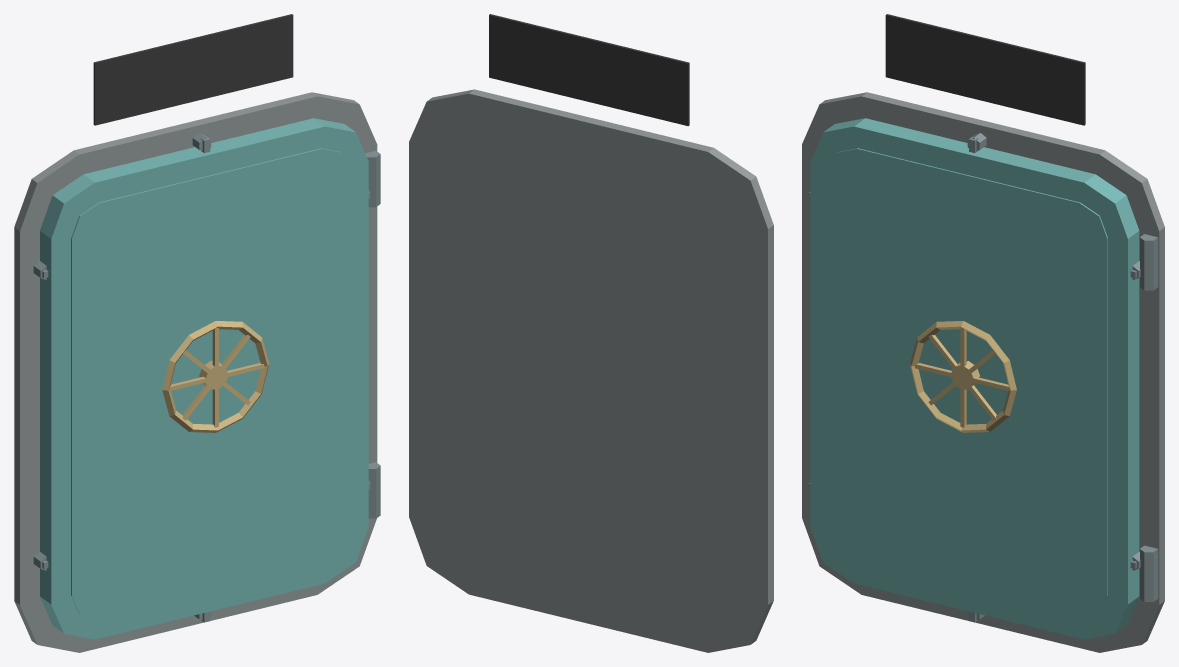
File: kit_hatch_exit.fbx
3 views of the same model, side by side, from view 1: azimuth 30°, elevation 25°; view 2: azimuth 150°, elevation 25°; view 3: azimuth 330°, elevation 25° (orthographic).
Parts seen in each view (by area): view 1: kit_hatch_exit; view 2: kit_hatch_exit; view 3: kit_hatch_exit.
Part boxes in pixels (bbox=[...]): kit_hatch_exit: bbox=[14, 14, 380, 652]; kit_hatch_exit: bbox=[409, 14, 773, 652]; kit_hatch_exit: bbox=[802, 14, 1164, 652].
Size of the model in its own units: 1.8 by 2.8 by 0.22.
